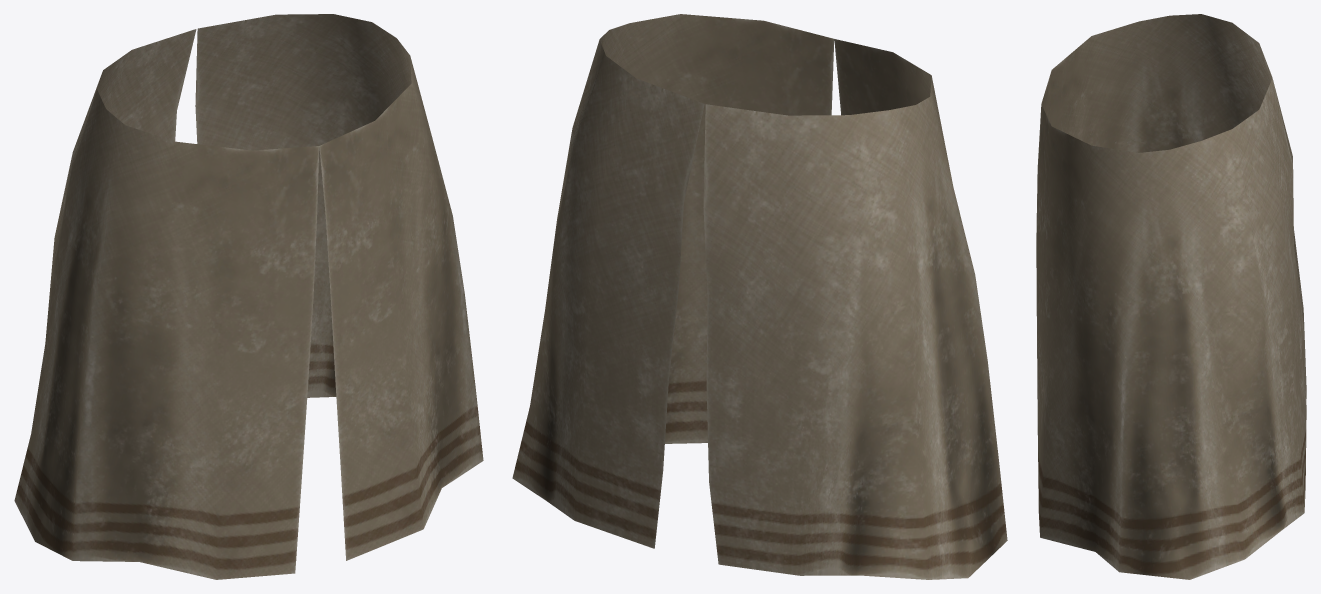
File: clo_dunland_wulf_scalemail_light.fbx
3 views of the same model, side by side, from view 1: azimuth 30°, elevation 25°; view 2: azimuth 150°, elevation 25°; view 3: azimuth 270°, elevation 25° (orthographic). The views are drawn at different scales.
Parts seen in each view (by area): view 1: clo_dunland_wulf_scalemail_light; view 2: clo_dunland_wulf_scalemail_light; view 3: clo_dunland_wulf_scalemail_light.
Boxes of the visible parts, x1,y1,x2,y2 form: clo_dunland_wulf_scalemail_light: (14, 14, 483, 579); clo_dunland_wulf_scalemail_light: (512, 14, 1007, 579); clo_dunland_wulf_scalemail_light: (1036, 14, 1306, 579).
Size of the model in its own units: 0.5048 by 0.3039 by 0.528.
Materials: 1 (1 with a texture image).
